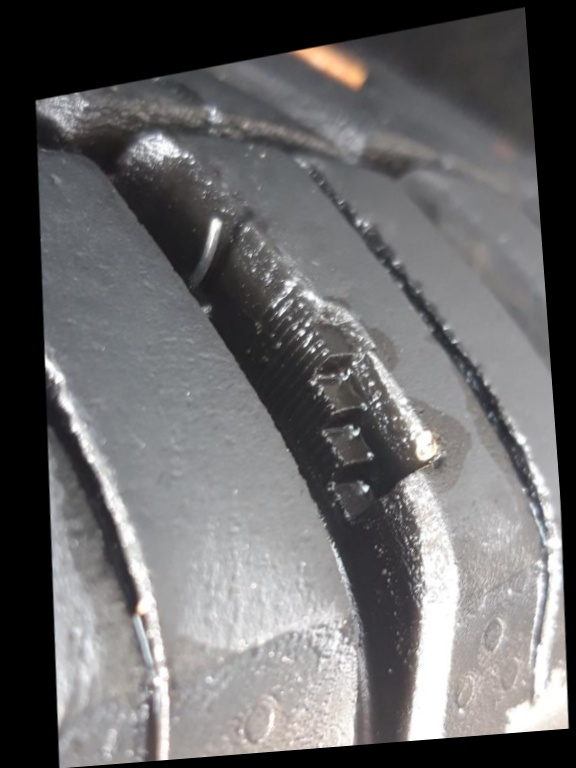temoin:80: (218, 247, 464, 566)
